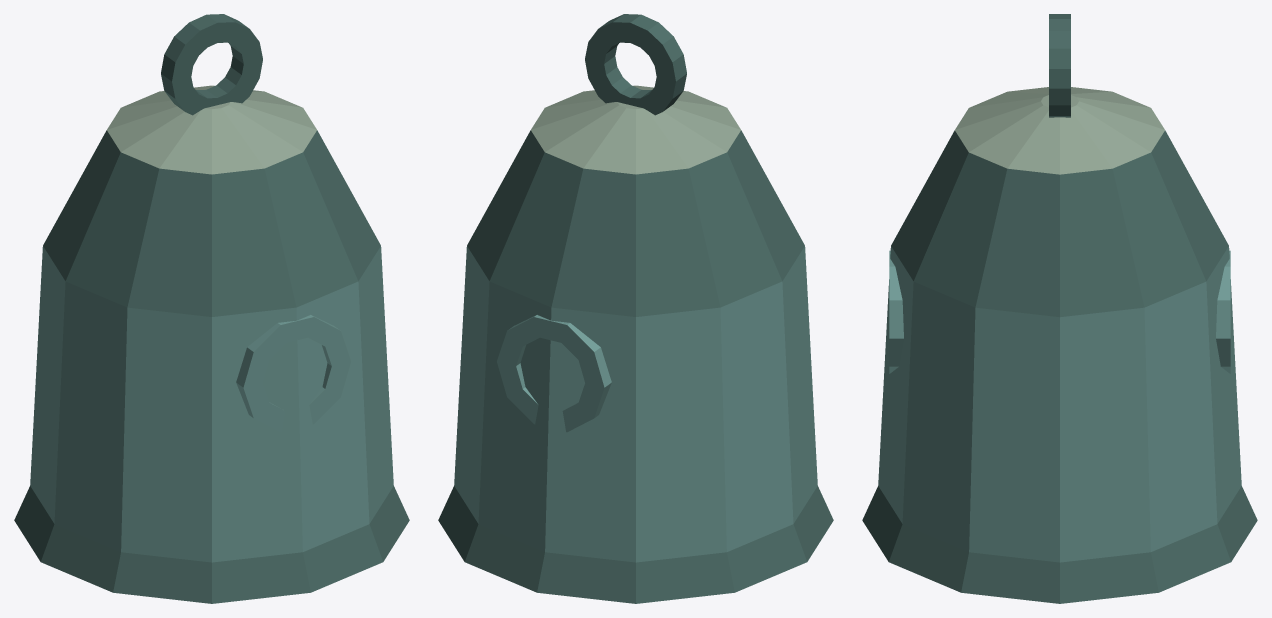
Rendered from diving-bell.glb.
3 views of the same model, side by side, from view 1: azimuth 30°, elevation 25°; view 2: azimuth 150°, elevation 25°; view 3: azimuth 270°, elevation 25° (orthographic).
Parts seen in each view (by area): view 1: diving-bell__body; view 2: diving-bell__body; view 3: diving-bell__body.
Part boxes in pixels (bbox=[...]): diving-bell__body: bbox=[14, 14, 409, 603]; diving-bell__body: bbox=[438, 14, 833, 603]; diving-bell__body: bbox=[862, 14, 1257, 603].
Bounding box in the file's own units: 1.24 × 1.74 × 1.24.
